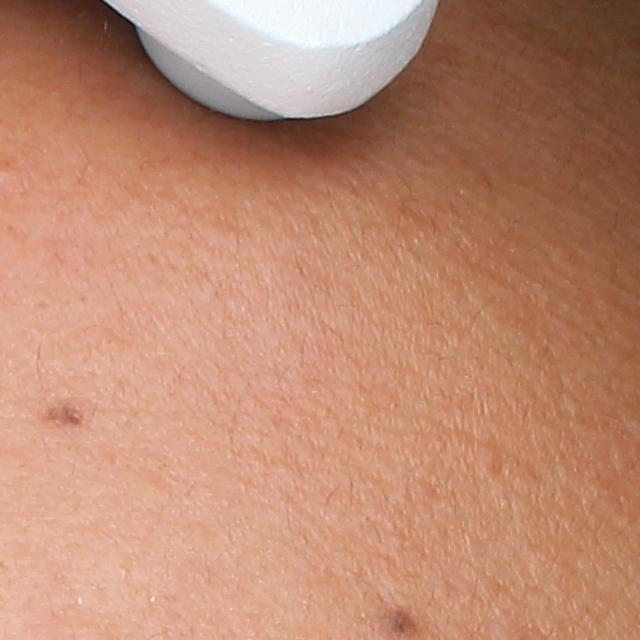comedo: (474, 439, 502, 478)
nevus: (44, 396, 91, 429)
